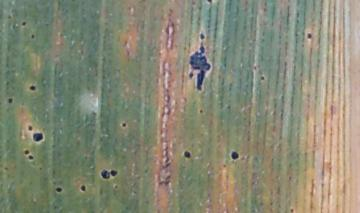tarspot: (185, 40, 212, 92), (32, 131, 44, 144), (100, 167, 111, 180), (229, 149, 240, 161), (79, 183, 87, 193), (110, 168, 118, 178), (182, 150, 191, 158), (305, 31, 313, 40), (198, 31, 206, 40), (28, 84, 37, 92), (6, 96, 14, 105), (54, 186, 64, 193), (120, 120, 128, 128), (259, 74, 266, 82), (26, 124, 33, 132), (27, 154, 35, 161), (6, 13, 13, 21), (221, 162, 228, 169), (20, 20, 27, 27), (29, 33, 36, 40), (23, 149, 30, 156), (288, 207, 296, 213), (225, 103, 231, 111), (252, 64, 258, 72), (3, 166, 10, 172), (37, 166, 44, 172), (205, 1, 214, 5), (113, 184, 119, 190), (198, 108, 203, 114)
